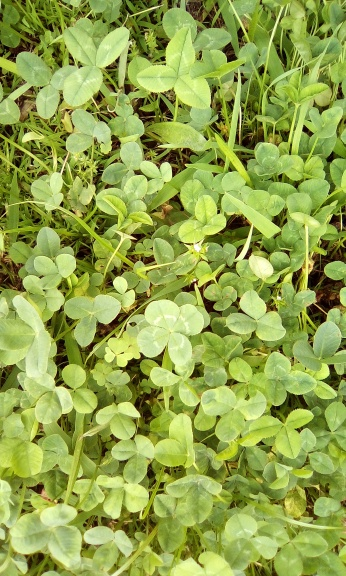4leaf: (136, 299, 204, 365)
